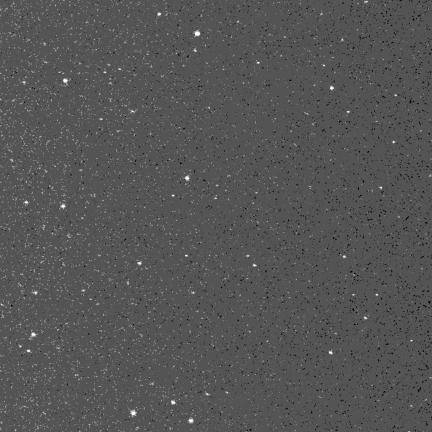blob: (130, 410, 136, 416), (31, 333, 37, 338), (188, 418, 194, 423), (195, 30, 200, 36), (61, 204, 67, 209), (63, 79, 68, 84), (364, 316, 368, 321), (330, 86, 334, 90), (185, 176, 189, 180), (171, 400, 175, 404), (343, 255, 347, 259), (253, 264, 258, 267), (172, 195, 176, 198), (25, 201, 29, 204), (329, 351, 333, 354), (138, 262, 142, 265), (99, 118, 103, 121), (33, 291, 37, 294), (157, 13, 161, 16), (376, 294, 379, 297), (185, 255, 189, 257), (27, 350, 30, 352)
